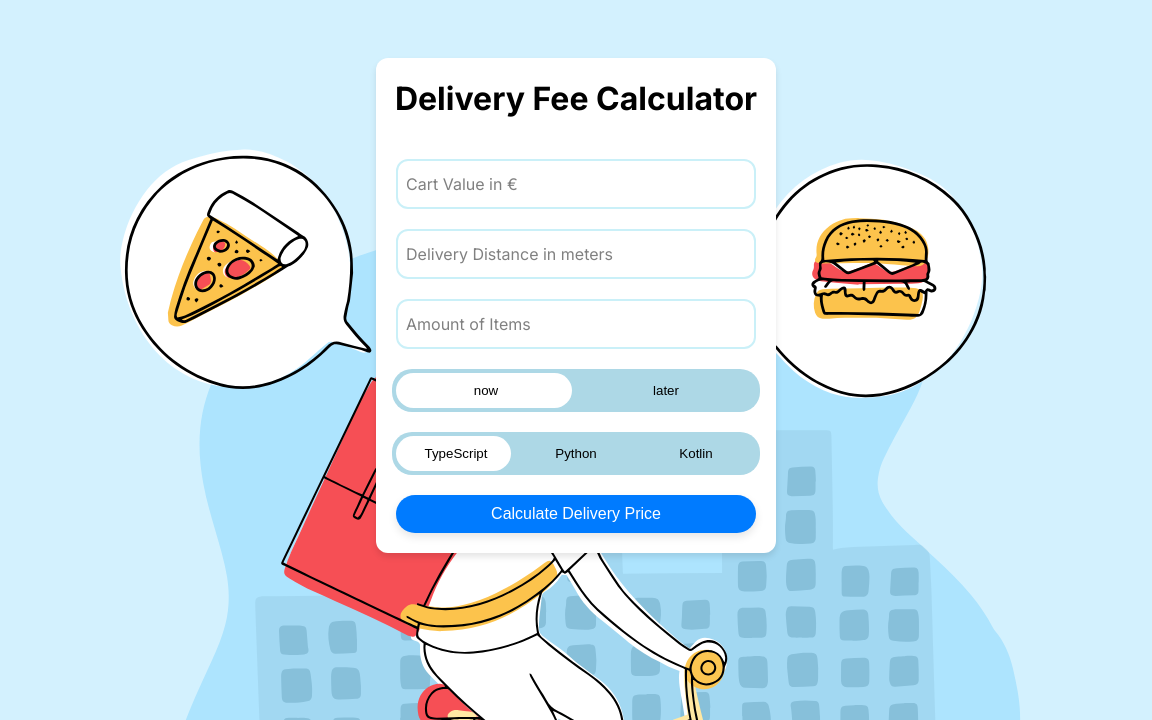
Test: Delivery Fee Calculator › Test Case 1: Standard delivery on Monday
This screenshot has width=1152, height=720.
// Input values into the form
Type "7.90" into the field with test id "cartValue" at [576, 185], box [396, 160, 756, 210]
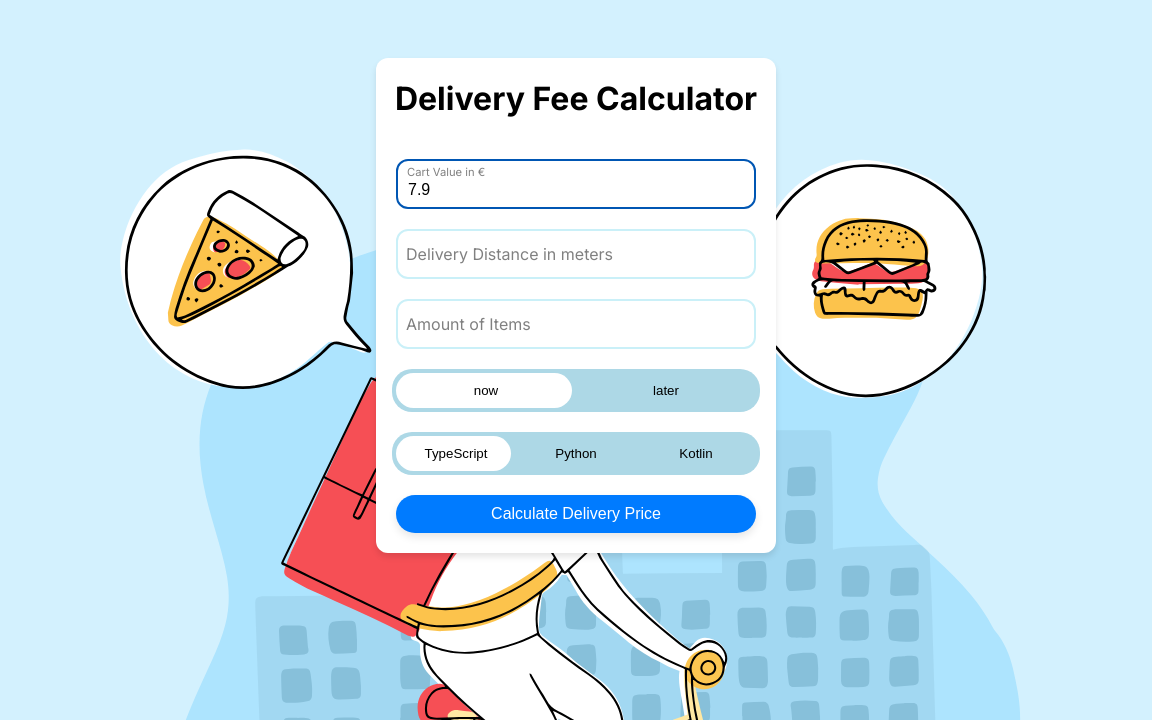
Type "2235" into the field with test id "deliveryDistance" at [576, 255], box [396, 230, 756, 280]
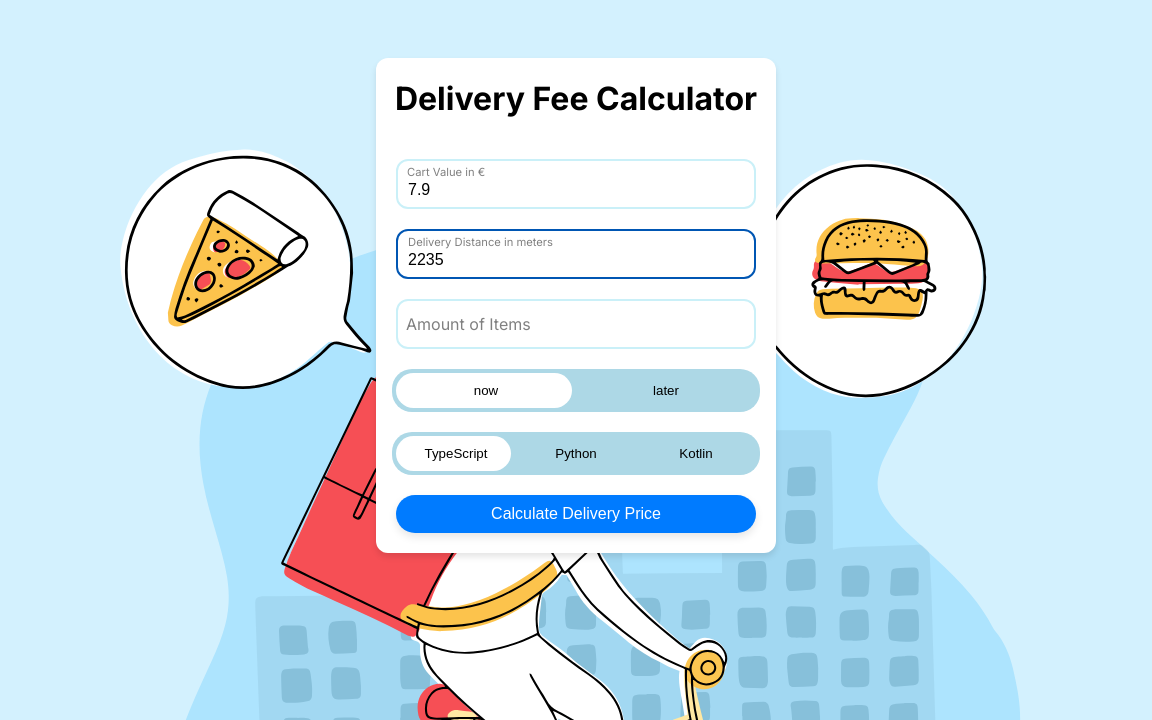
Type "4" into the field with test id "amountOfItems" at [576, 325], box [396, 300, 756, 350]
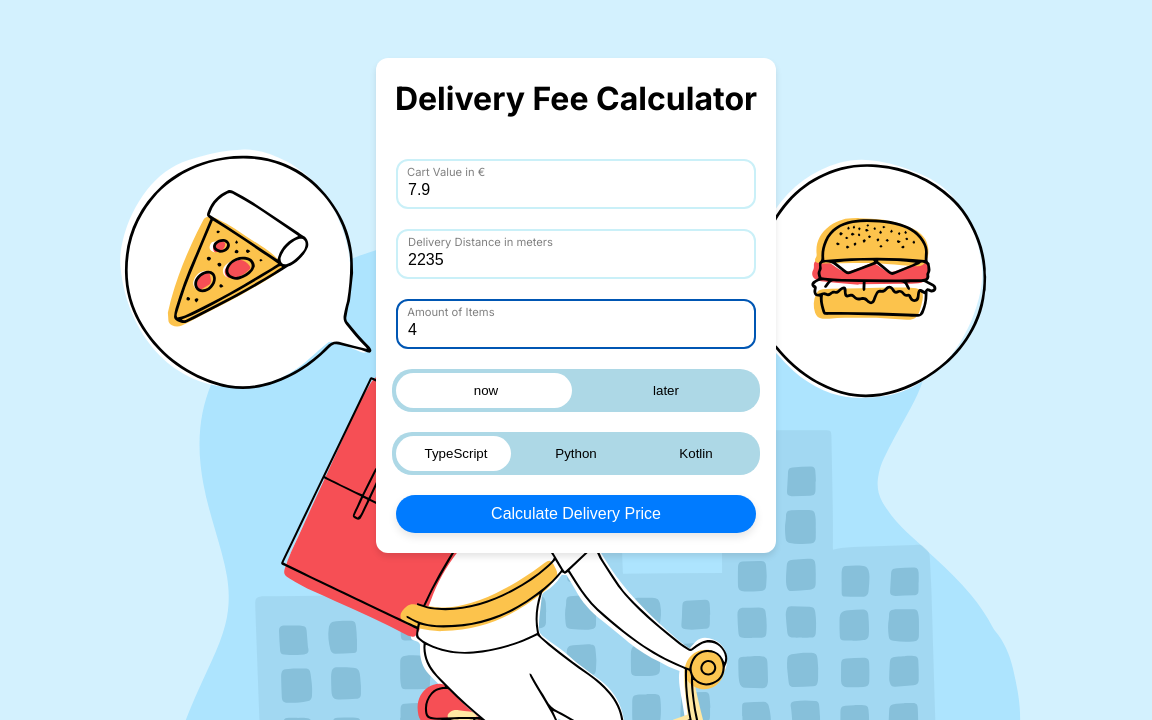
// Select the later delivery time option
Click the button "later" at [666, 392], box [576, 374, 756, 409]
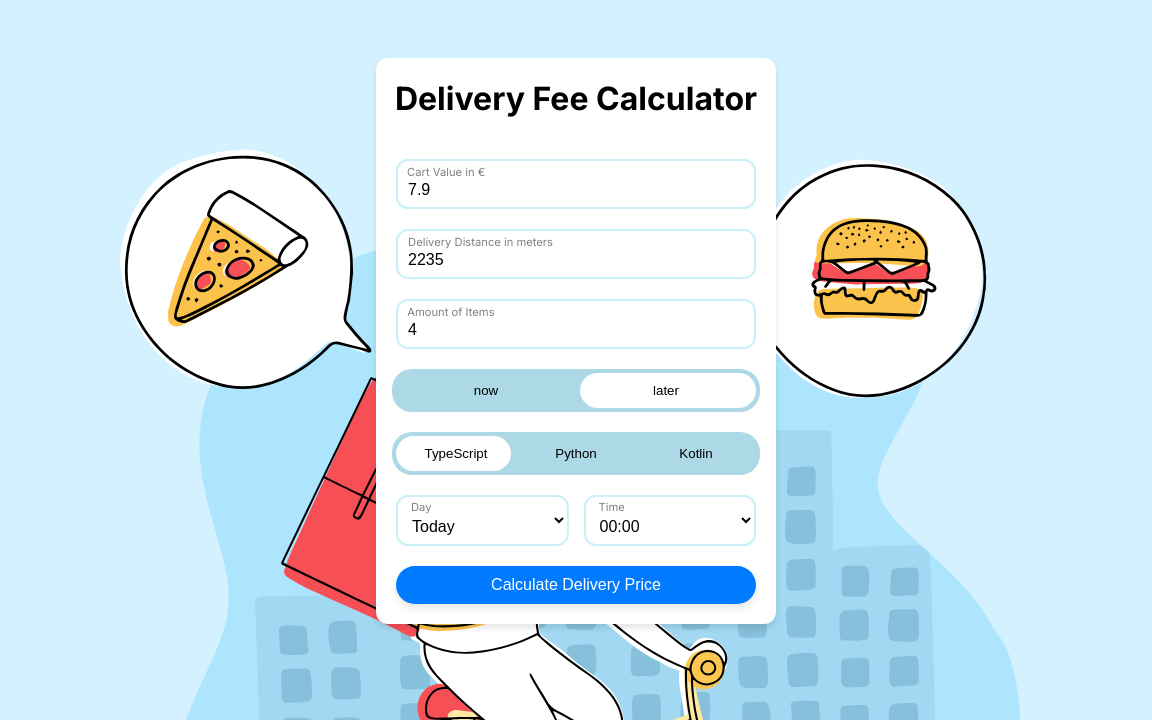
// Select Monday from the day SelectionField
Select "Monday" in the dropdown with test id "selectedDay" at [483, 522], box [396, 496, 569, 547]
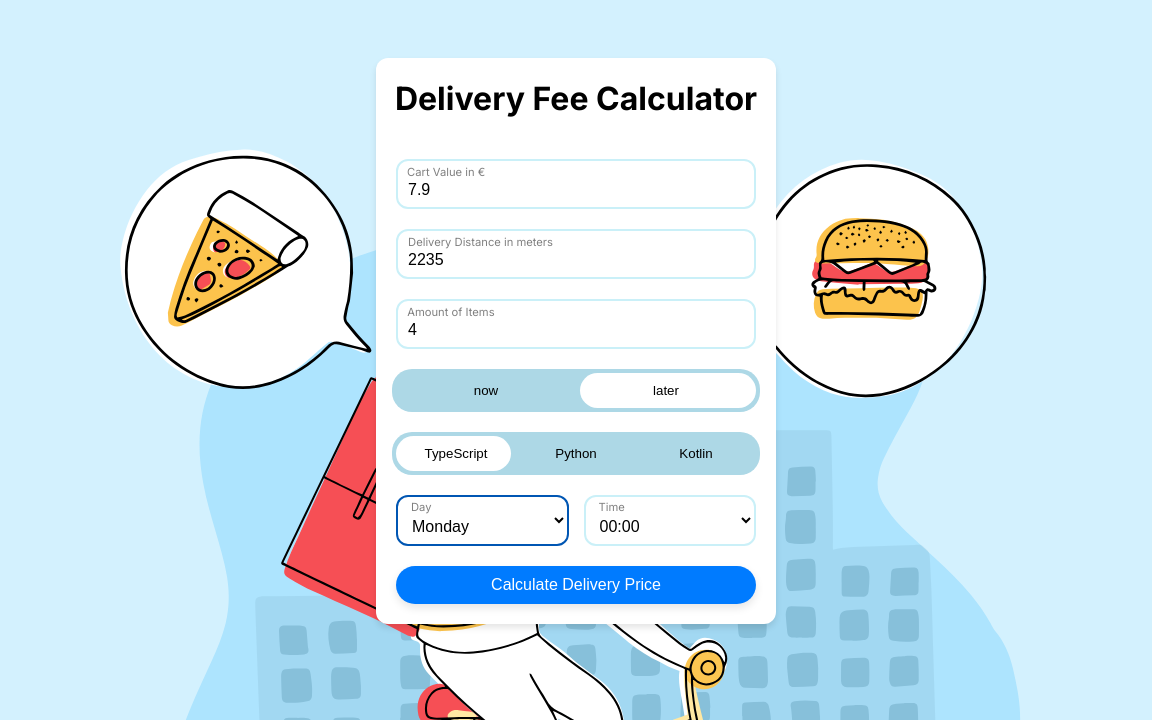
// Click the calculate button
Click the button with test id "calculateButton" at [576, 586], box [396, 567, 756, 605]
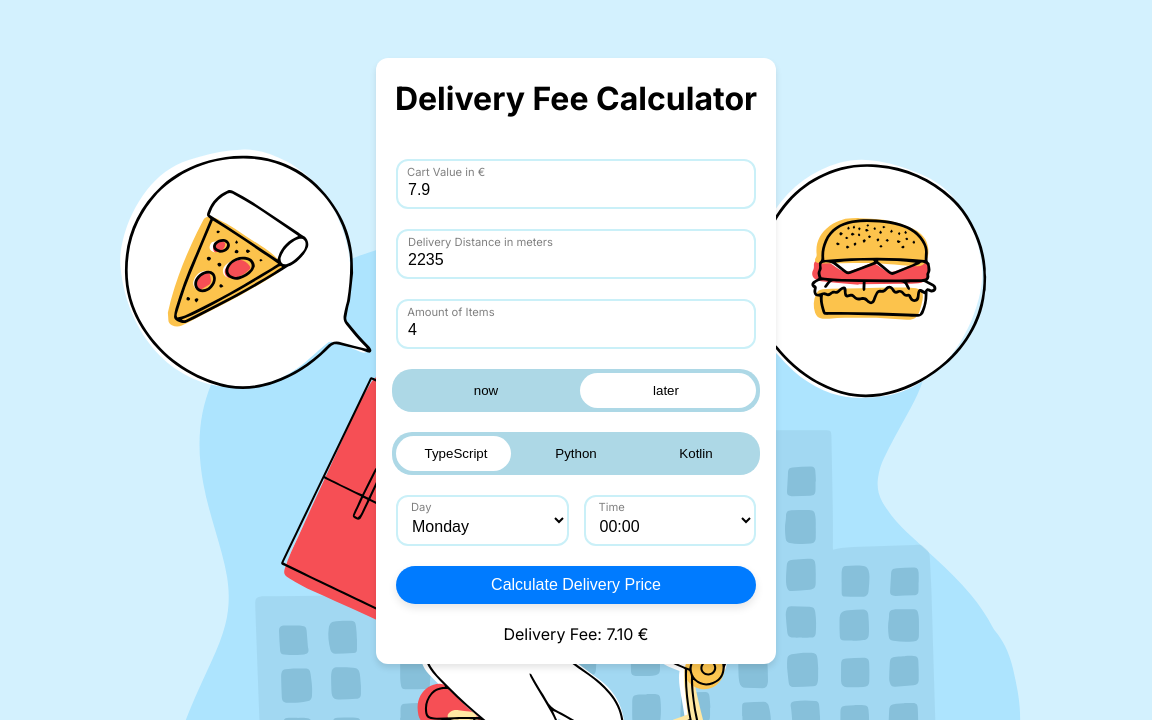
Result: the text with test id "fee" reads "Delivery Fee: 7.10 €" at [504, 625, 649, 645]
